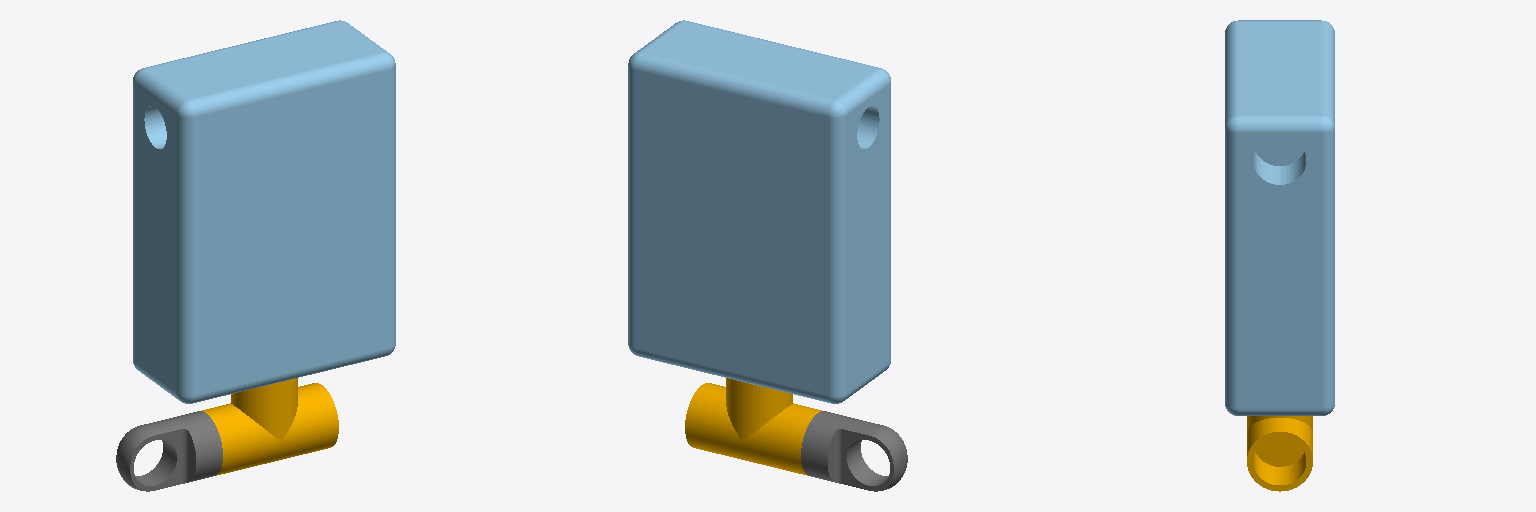
The robot description file, URDF, robot "demo-robot-description":
<?xml version="1.0" ?>
<!-- Generated using onshape-to-robot -->
<!-- Onshape document_id: b077fc27aee0d6fa32aac1cf -->
<robot name="demo-robot-description">
  <!-- Link base -->
  <link name="base">
    <inertial>
      <origin xyz="0 0 0" rpy="0 0 0"/>
      <mass value="1e-09"/>
      <inertia ixx="1e-09" ixy="0" ixz="0" iyy="1e-09" iyz="0" izz="1e-09"/>
    </inertial>
    <!-- Part base -->
    <visual>
      <origin xyz="0 0 0" rpy="0 -0 0"/>
      <geometry>
        <mesh filename="assets/base.stl"/>
      </geometry>
      <material name="base_material">
        <color rgba="0.615686 0.811765 0.929412 1"/>
      </material>
    </visual>
    <collision>
      <origin xyz="0 0 0" rpy="0 -0 0"/>
      <geometry>
        <mesh filename="assets/base.stl"/>
      </geometry>
    </collision>
  </link>
  <!-- Link pelvis_2 -->
  <link name="pelvis_2">
    <inertial>
      <origin xyz="0 0 0" rpy="0 0 0"/>
      <mass value="1e-09"/>
      <inertia ixx="1e-09" ixy="0" ixz="0" iyy="1e-09" iyz="0" izz="1e-09"/>
    </inertial>
    <!-- Part pelvis_2 -->
    <visual>
      <origin xyz="3.81639e-16 1.99005e-18 -0.732" rpy="0 -0 0"/>
      <geometry>
        <mesh filename="assets/pelvis.stl"/>
      </geometry>
      <material name="pelvis_2_material">
        <color rgba="0.980392 0.713725 0.00392157 1"/>
      </material>
    </visual>
    <collision>
      <origin xyz="3.81639e-16 1.99005e-18 -0.732" rpy="0 -0 0"/>
      <geometry>
        <mesh filename="assets/pelvis.stl"/>
      </geometry>
    </collision>
  </link>
  <!-- Frame pelvis (dummy link + fixed joint) -->
  <link name="pelvis">
    <origin xyz="0 0 0" rpy="0 -0 0"/>
    <inertial>
      <origin xyz="0 0 0" rpy="0 0 0"/>
      <mass value="1e-9"/>
      <inertia ixx="0" ixy="0" ixz="0" iyy="0" iyz="0" izz="0"/>
    </inertial>
  </link>
  <joint name="pelvis_frame" type="fixed">
    <origin xyz="7.59908e-17 4.77612e-18 0" rpy="0 -0 0"/>
    <parent link="pelvis_2"/>
    <child link="pelvis"/>
    <axis xyz="0 0 0"/>
  </joint>
  <!-- Link hip -->
  <link name="hip">
    <inertial>
      <origin xyz="0 0 0" rpy="0 0 0"/>
      <mass value="1e-09"/>
      <inertia ixx="1e-09" ixy="0" ixz="0" iyy="1e-09" iyz="0" izz="1e-09"/>
    </inertial>
    <!-- Part hip -->
    <visual>
      <origin xyz="0 -0.605 0.12" rpy="-1.5708 -1.5708 0"/>
      <geometry>
        <mesh filename="assets/hip.stl"/>
      </geometry>
      <material name="hip_material">
        <color rgba="0.498039 0.498039 0.498039 1"/>
      </material>
    </visual>
    <collision>
      <origin xyz="0 -0.605 0.12" rpy="-1.5708 -1.5708 0"/>
      <geometry>
        <mesh filename="assets/hip.stl"/>
      </geometry>
    </collision>
  </link>
  <!-- Frame left_hip (dummy link + fixed joint) -->
  <link name="left_hip">
    <origin xyz="0 0 0" rpy="0 -0 0"/>
    <inertial>
      <origin xyz="0 0 0" rpy="0 0 0"/>
      <mass value="1e-9"/>
      <inertia ixx="0" ixy="0" ixz="0" iyy="0" iyz="0" izz="0"/>
    </inertial>
  </link>
  <joint name="left_hip_frame" type="fixed">
    <origin xyz="-1.53081e-19 0 -2.77556e-17" rpy="-1.5708 -1.5708 0"/>
    <parent link="hip"/>
    <child link="left_hip"/>
    <axis xyz="0 0 0"/>
  </joint>
  <!-- Joint from pelvis_2 to hip -->
  <joint name="left_hip_pitch_joint" type="revolute">
    <origin xyz="-0.12 1.99005e-18 -0.127" rpy="1.5708 -0 1.5708"/>
    <parent link="pelvis_2"/>
    <child link="hip"/>
    <axis xyz="0 0 1"/>
    <limit effort="10" velocity="10" lower="-3.141592653589793" upper="3.141592653589793"/>
  </joint>
  <!-- Joint from base to pelvis_2 -->
  <joint name="waist_yaw_joint" type="revolute">
    <origin xyz="-3.81639e-16 -1.99005e-18 0.732" rpy="0 -0 0"/>
    <parent link="base"/>
    <child link="pelvis_2"/>
    <axis xyz="0 0 1"/>
    <limit effort="10" velocity="10" lower="-3.141592653589793" upper="3.141592653589793"/>
  </joint>
</robot>

--- Render facts (derived) ---
Views: 3 orthographic renders of the robot side by side, from view 1: azimuth 30°, elevation 25°; view 2: azimuth 150°, elevation 25°; view 3: azimuth 270°, elevation 25°.
Robot: demo-robot-description — 5 links, 4 joints (2 revolute, 2 fixed); root link base; default pose: all joints at 0.
Links seen in each view (by area): view 1: base, pelvis_2, hip; view 2: base, pelvis_2, hip; view 3: base, pelvis_2.
Boxes of the visible links, box(x1,y1,x2,y2) form: base: box(133, 20, 395, 403); pelvis_2: box(202, 378, 338, 475); hip: box(116, 411, 222, 491); base: box(628, 20, 890, 403); pelvis_2: box(685, 378, 821, 475); hip: box(801, 411, 907, 491); base: box(1225, 20, 1334, 415); pelvis_2: box(1247, 416, 1312, 491).
Bounding box of the posed robot: 0.52 × 0.2 × 0.79 m (x, y, z).
Meshes: 3 distinct files referenced, 3 mesh visuals loaded (3 binary STL).